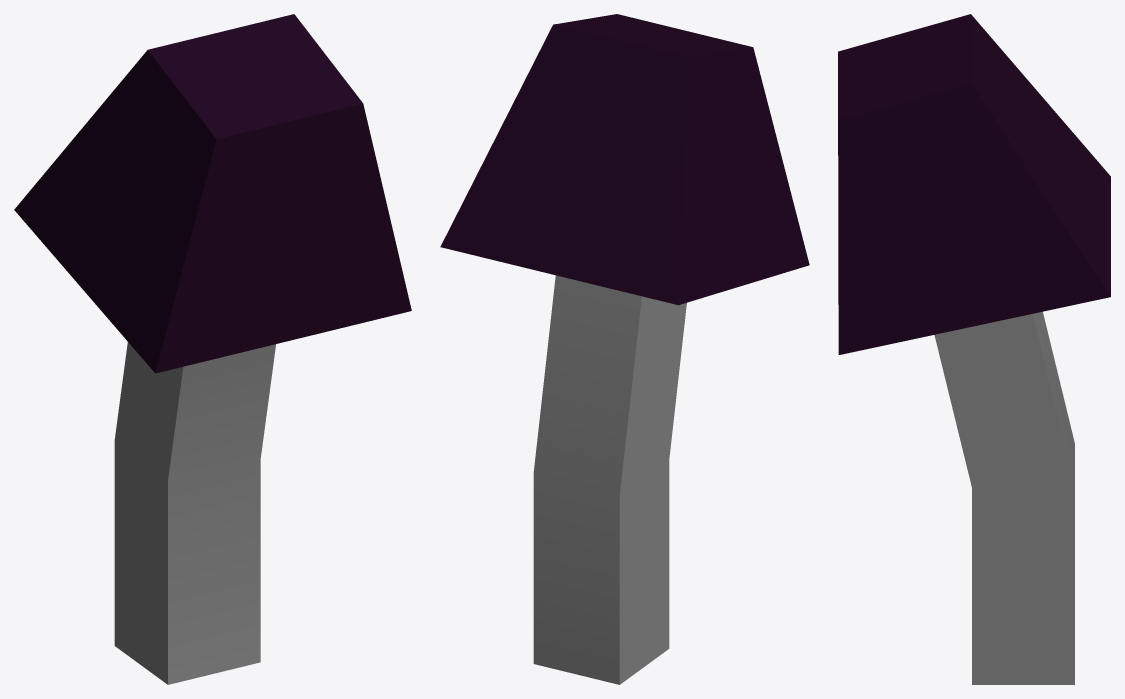
The model's file is Mushroom Purple Single.FBX.
The picture shows the model from 3 angles, left to right: view 1: azimuth 30°, elevation 25°; view 2: azimuth 150°, elevation 25°; view 3: azimuth 270°, elevation 25°; orthographic projection. The views are drawn at different scales.
Parts seen in each view (by area): view 1: Box001; view 2: Box001; view 3: Box001.
Boxes of the visible parts, <box> form: Box001: <box>14,14,411,684</box>; Box001: <box>440,14,809,684</box>; Box001: <box>838,14,1110,684</box>.
Bounding box in the file's own units: 1.38 × 3.29 × 1.32.
